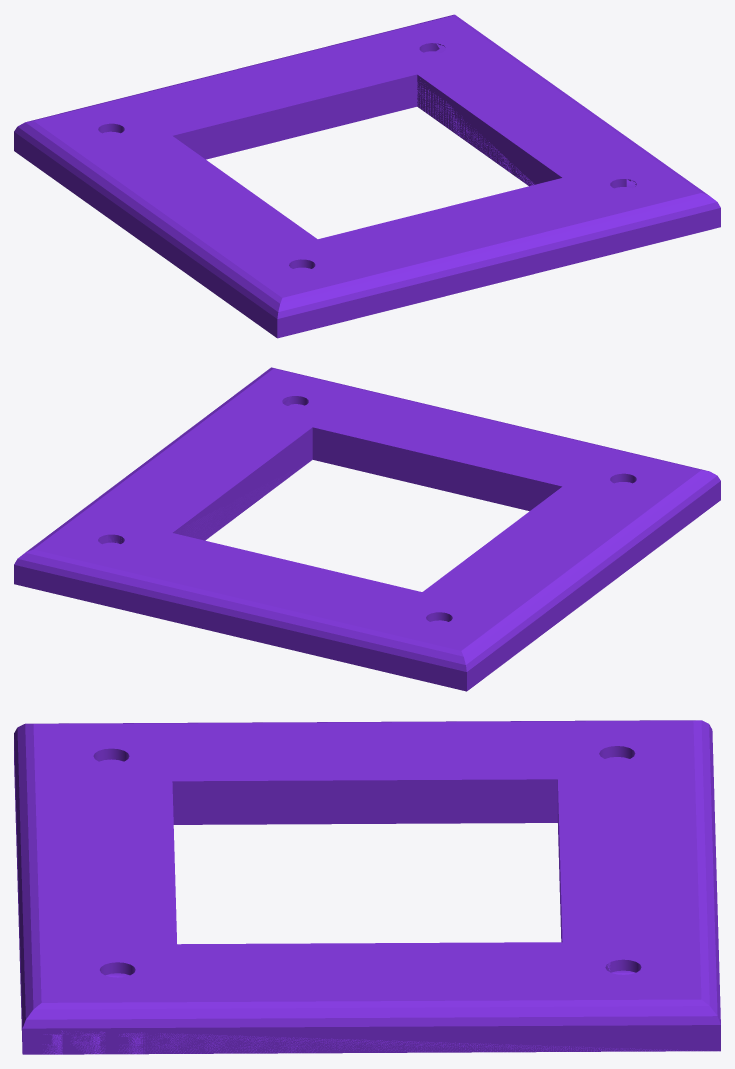
Rendered from base_planche.glb.
3 renders of one model, top to bottom at view 1: azimuth 30°, elevation 25°; view 2: azimuth 150°, elevation 25°; view 3: azimuth 270°, elevation 25°, orthographic. The views are drawn at different scales.
Visible parts, largest first — view 1: Wood.002, Wood.003, Wood.004, Wood.001; view 2: Wood.004, Wood.003, Wood.002, Wood.001; view 3: Wood.001, Wood.003, Wood.002, Wood.004.
Boxes of the visible parts, x1,y1,x2,y2 form: Wood.002: [277, 178, 720, 338]; Wood.003: [14, 121, 317, 337]; Wood.004: [27, 14, 453, 159]; Wood.001: [417, 14, 708, 195]; Wood.004: [14, 533, 466, 691]; Wood.003: [422, 470, 720, 690]; Wood.002: [272, 367, 708, 511]; Wood.001: [26, 367, 312, 552]; Wood.001: [22, 942, 720, 1054]; Wood.003: [29, 720, 695, 824]; Wood.002: [14, 723, 176, 1053]; Wood.004: [557, 720, 720, 1024].
Size of the model in its own units: 78.85 by 5.37 by 78.85.
